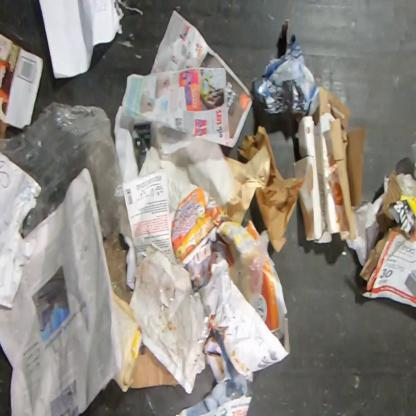cardboard: (292, 87, 368, 244), (358, 221, 416, 308), (0, 30, 44, 140), (376, 168, 415, 239), (129, 345, 179, 389)
soft_plastic: (0, 101, 134, 249), (229, 229, 269, 313)
